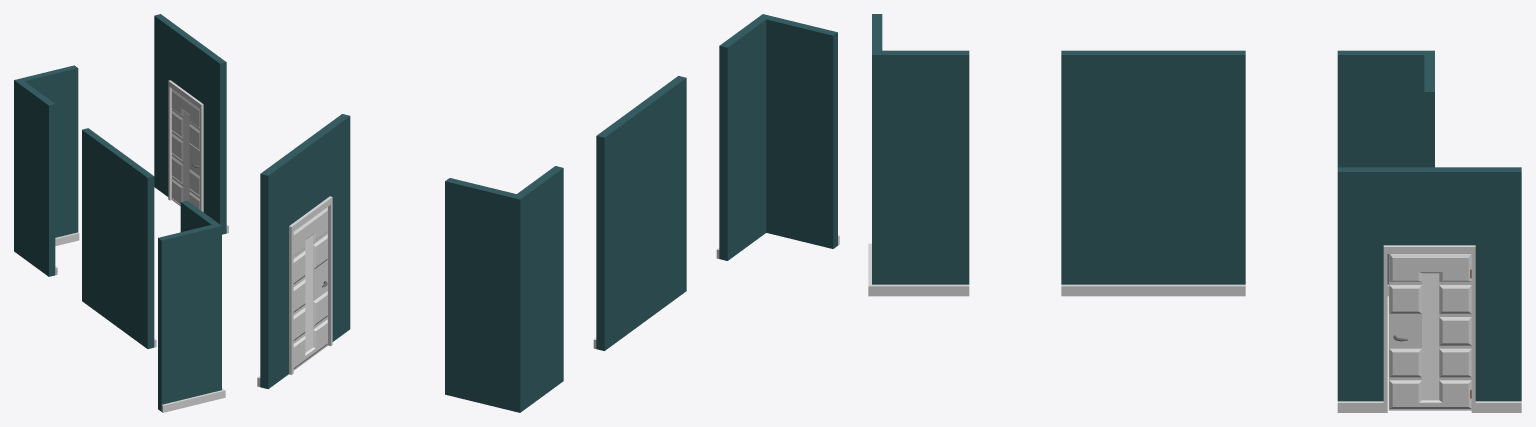
Rendered from Walls.glb.
The picture shows the model from 3 angles, left to right: view 1: azimuth 30°, elevation 25°; view 2: azimuth 150°, elevation 25°; view 3: azimuth 270°, elevation 25°; orthographic projection. The views are drawn at different scales.
Visible parts, largest first — view 1: Base Wall, Corner_Wall_1, Corner_Wall_2, Wall_Door, Door, DoorFrame, Door_inner_glas, Baseboard_2, Baseboard_1; view 2: Corner_Wall_1, Corner_Wall_2, Base Wall, Wall_Door, Door, DoorFrame, Door_inner_glas; view 3: Base Wall, Wall_Door, Corner_Wall_2, Corner_Wall_1, Door, DoorFrame, Baseboard, Door_inner_glas, Baseboard_2, Baseboard.001.
Part boxes in pixels (left/top/right/bottom): Base Wall: left=82, top=128, right=154, bottom=348; Corner_Wall_1: left=14, top=65, right=78, bottom=276; Corner_Wall_2: left=158, top=200, right=221, bottom=411; Wall_Door: left=154, top=14, right=226, bottom=234; Door: left=171, top=88, right=199, bottom=209; DoorFrame: left=168, top=80, right=203, bottom=211; Door_inner_glas: left=183, top=111, right=189, bottom=201; Baseboard_2: left=161, top=388, right=225, bottom=412; Baseboard_1: left=55, top=232, right=79, bottom=275; Corner_Wall_1: left=445, top=166, right=563, bottom=412; Corner_Wall_2: left=719, top=14, right=837, bottom=260; Base Wall: left=596, top=76, right=686, bottom=350; Wall_Door: left=260, top=114, right=350, bottom=389; Door: left=293, top=207, right=327, bottom=370; DoorFrame: left=289, top=196, right=332, bottom=374; Door_inner_glas: left=305, top=234, right=312, bottom=352; Base Wall: left=1061, top=50, right=1245, bottom=284; Wall_Door: left=1337, top=167, right=1521, bottom=401; Corner_Wall_2: left=872, top=14, right=969, bottom=284; Corner_Wall_1: left=1337, top=50, right=1434, bottom=284; Door: left=1388, top=254, right=1471, bottom=410; DoorFrame: left=1383, top=245, right=1475, bottom=412; Baseboard: left=1061, top=284, right=1245, bottom=296; Door_inner_glas: left=1422, top=273, right=1439, bottom=400; Baseboard_2: left=868, top=243, right=969, bottom=296; Baseboard.001: left=1337, top=401, right=1521, bottom=412.
Size of the model in its own units: 4.14 by 2.87 by 7.1.
